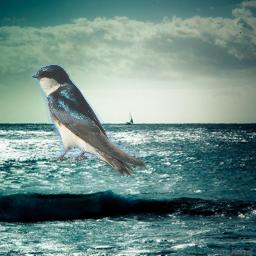Swallow: (31, 64, 146, 176)
